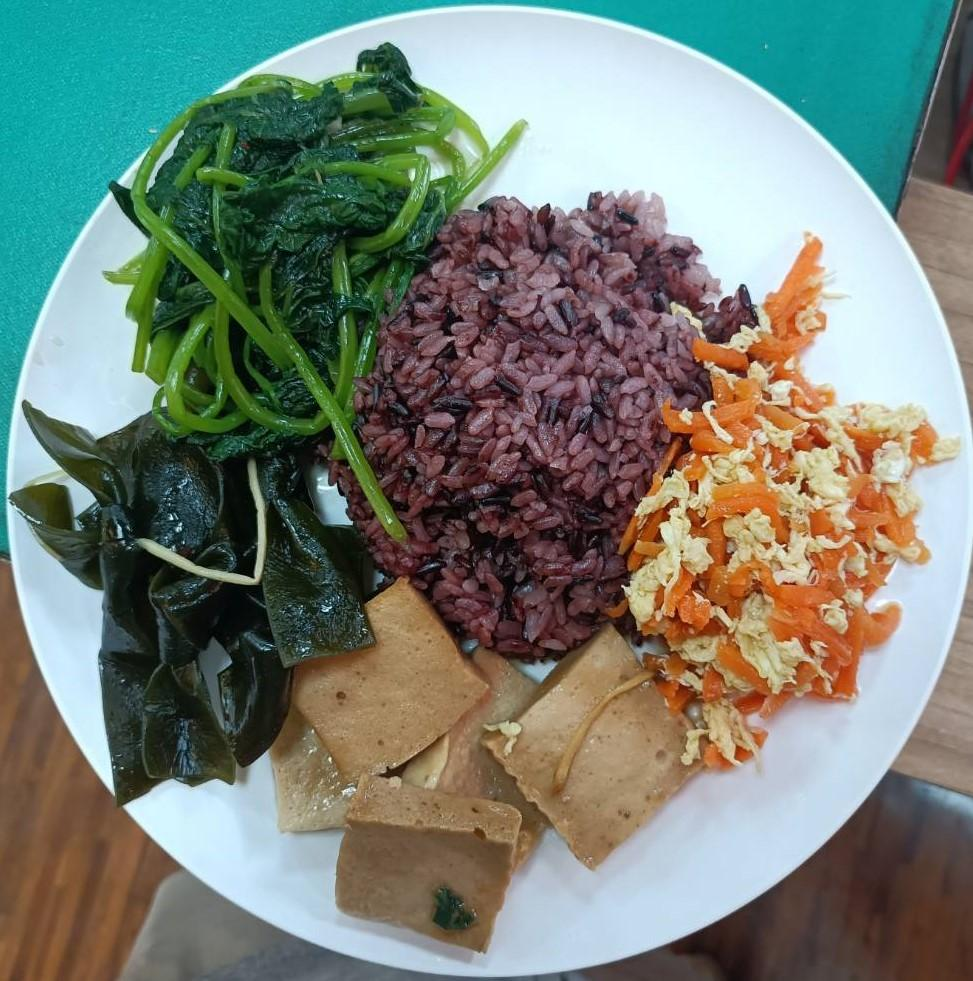big fried chicken leg: (18, 10, 973, 981)
braised fish: (366, 182, 708, 662)
braised fish fillet: (622, 232, 948, 767), (260, 577, 708, 953), (28, 384, 369, 807), (103, 46, 460, 449)
